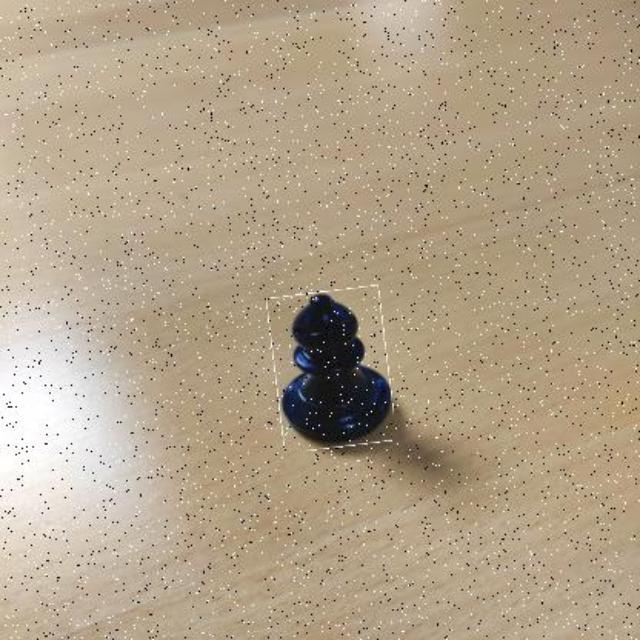black-bishop: (272, 287, 392, 448)
